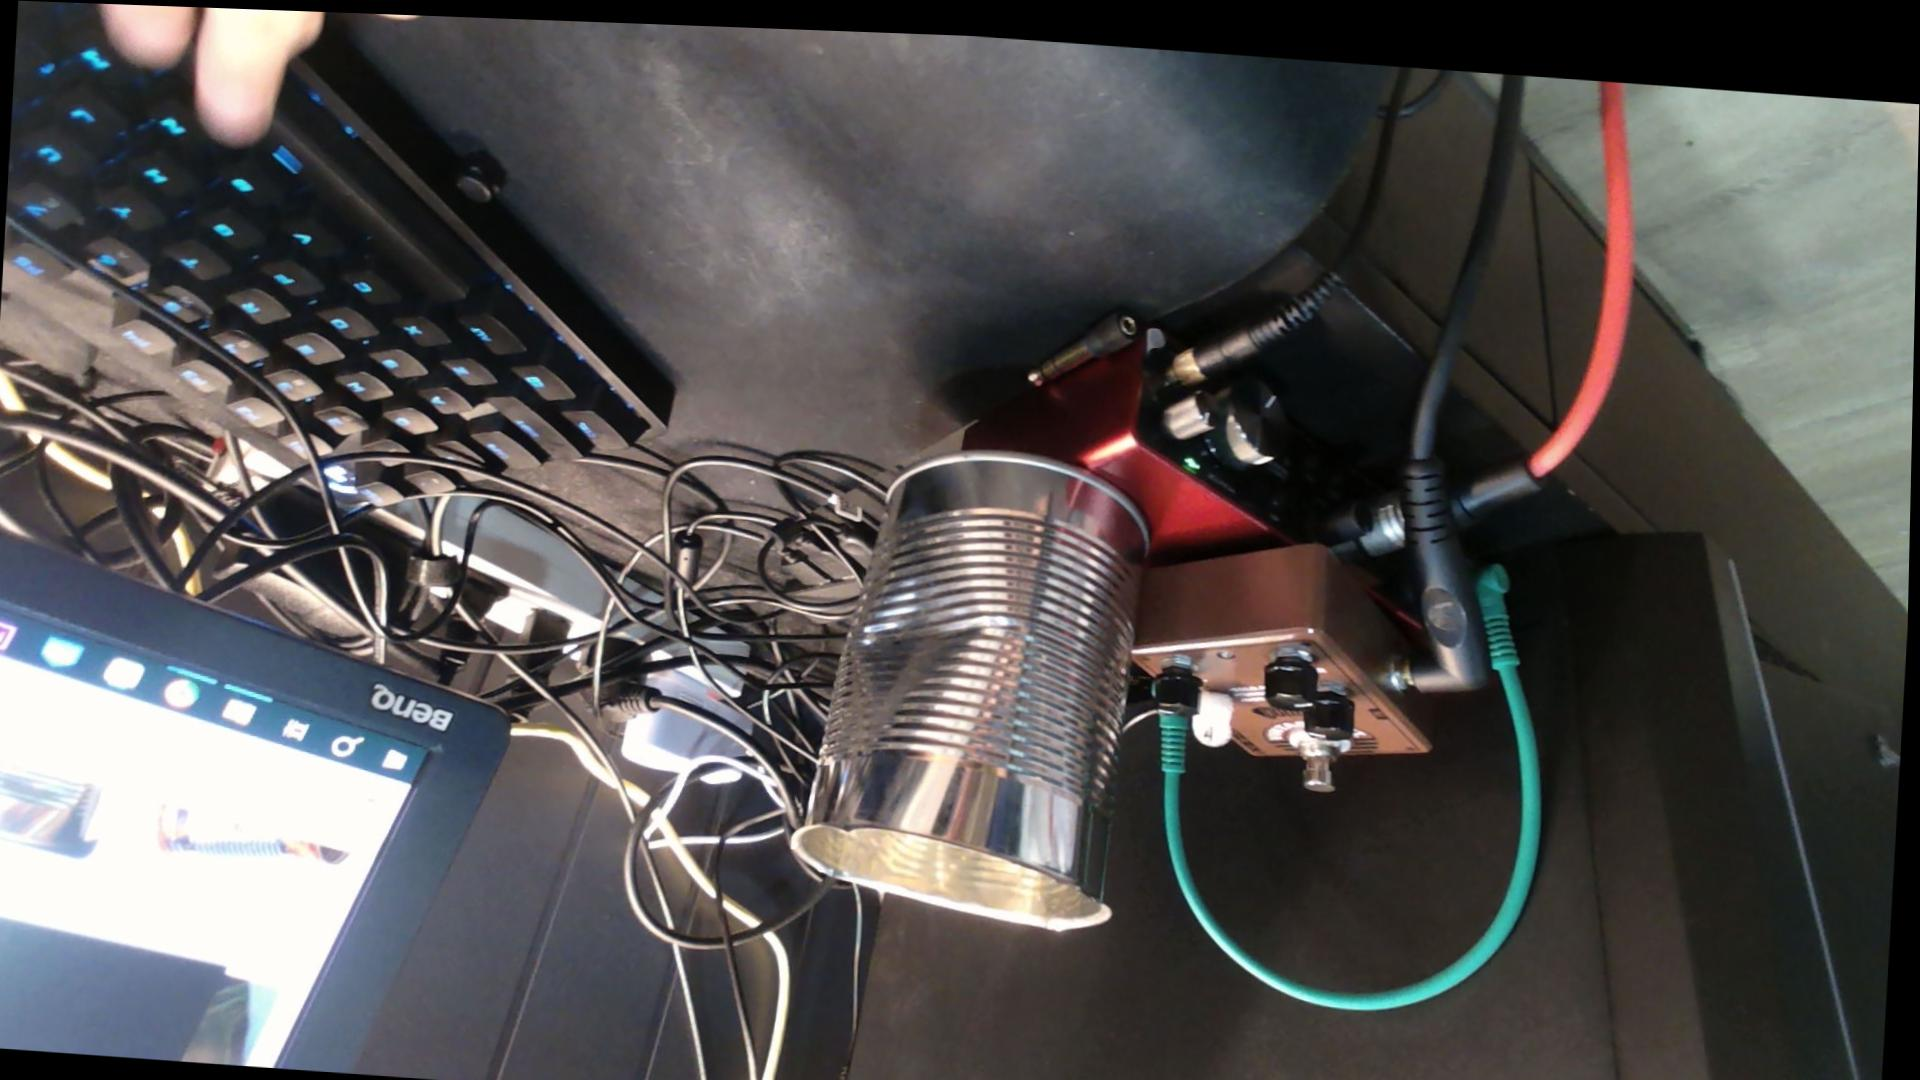metal: (793, 451, 1148, 929)
